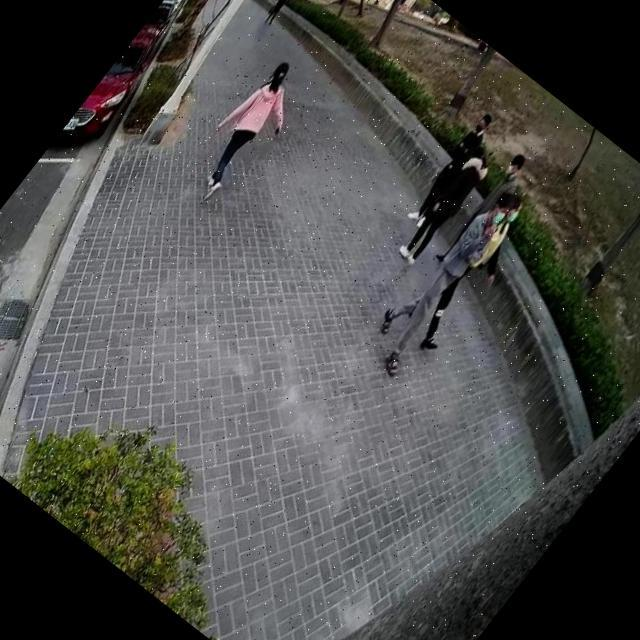person: (356, 173, 532, 380), (394, 182, 550, 360), (174, 48, 320, 214), (392, 138, 506, 272), (430, 145, 542, 277), (401, 106, 506, 232), (258, 0, 298, 30)
